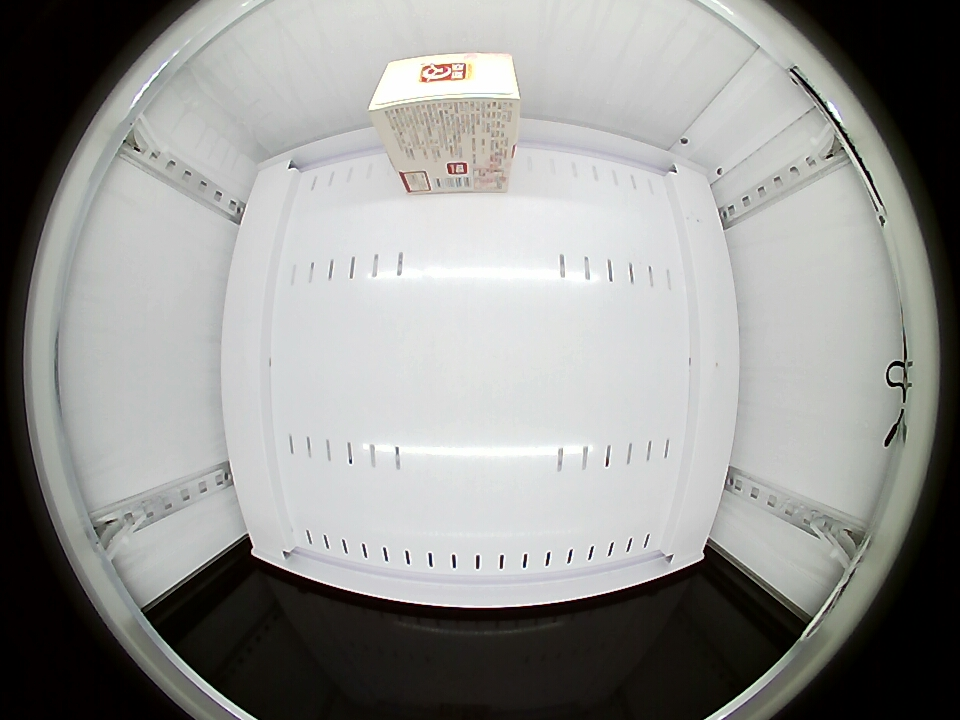rousongbing: (367, 52, 521, 153)
